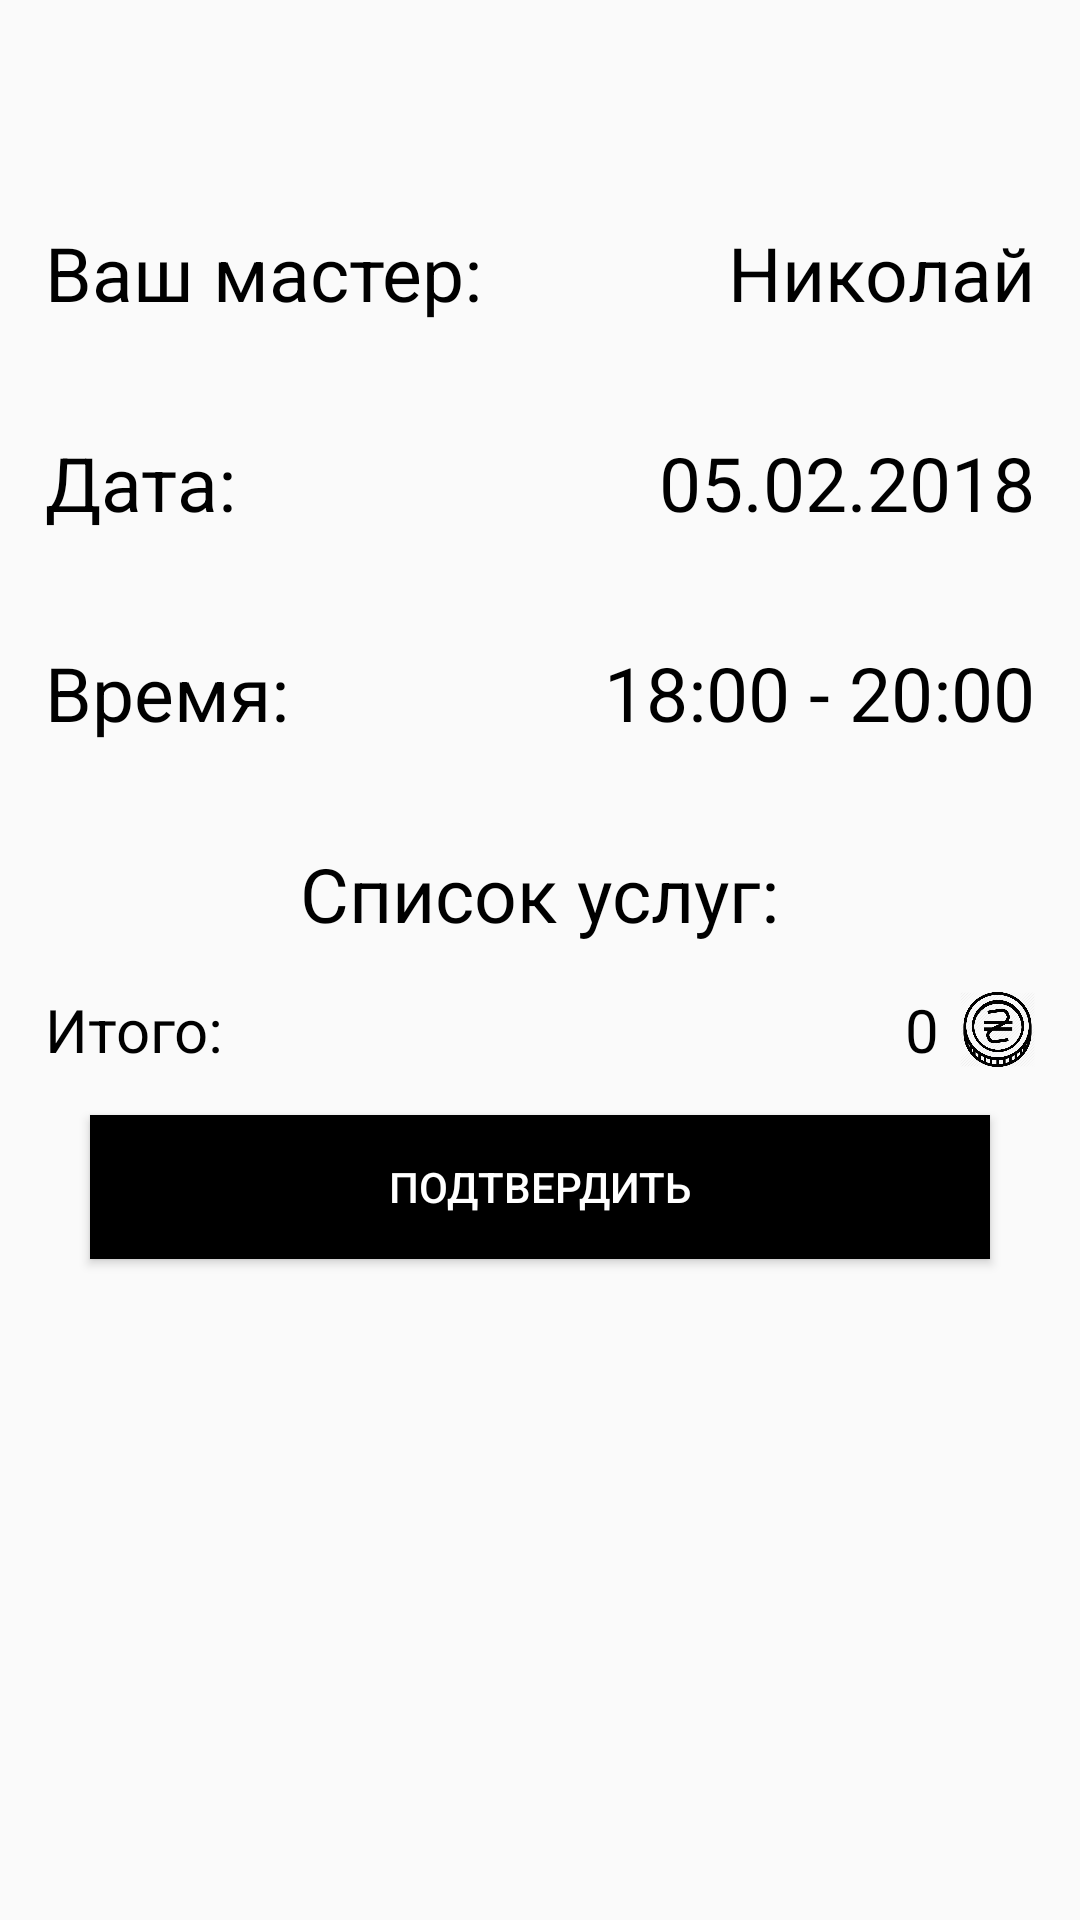

Screen size 1080x1920. Icon name, then its box in pixels as (x1, y1, x2, y2):
hrivnia: (963, 992, 1032, 1067)
